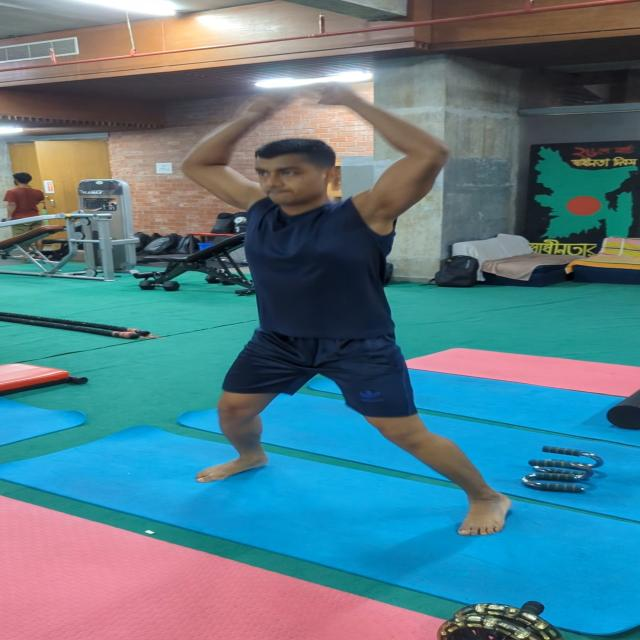Normal_JumpingJacks: (120, 62, 532, 531)
